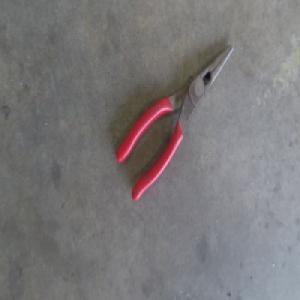Pliers: (115, 42, 236, 204)
